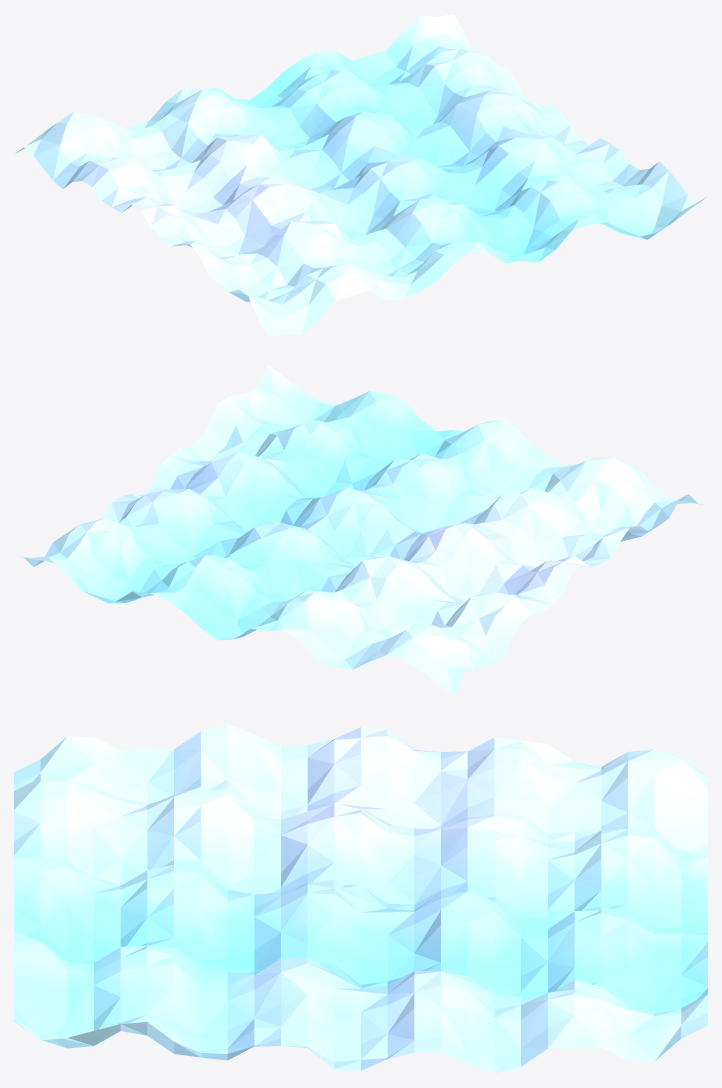
The model's file is pastel-looping-animated-water.glb.
3 views of the same model, one above another, from view 1: azimuth 30°, elevation 25°; view 2: azimuth 150°, elevation 25°; view 3: azimuth 270°, elevation 25° (orthographic). The views are drawn at different scales.
Parts seen in each view (by area): view 1: Sharp_Pastel_Looping_Water; view 2: Sharp_Pastel_Looping_Water; view 3: Sharp_Pastel_Looping_Water.
Part boxes in pixels (left/top/right/bottom): Sharp_Pastel_Looping_Water: left=14, top=14, right=707, bottom=336; Sharp_Pastel_Looping_Water: left=15, top=365, right=706, bottom=695; Sharp_Pastel_Looping_Water: left=14, top=724, right=707, bottom=1073.
Bounding box in the file's own units: 22 × 2.2 × 22.
